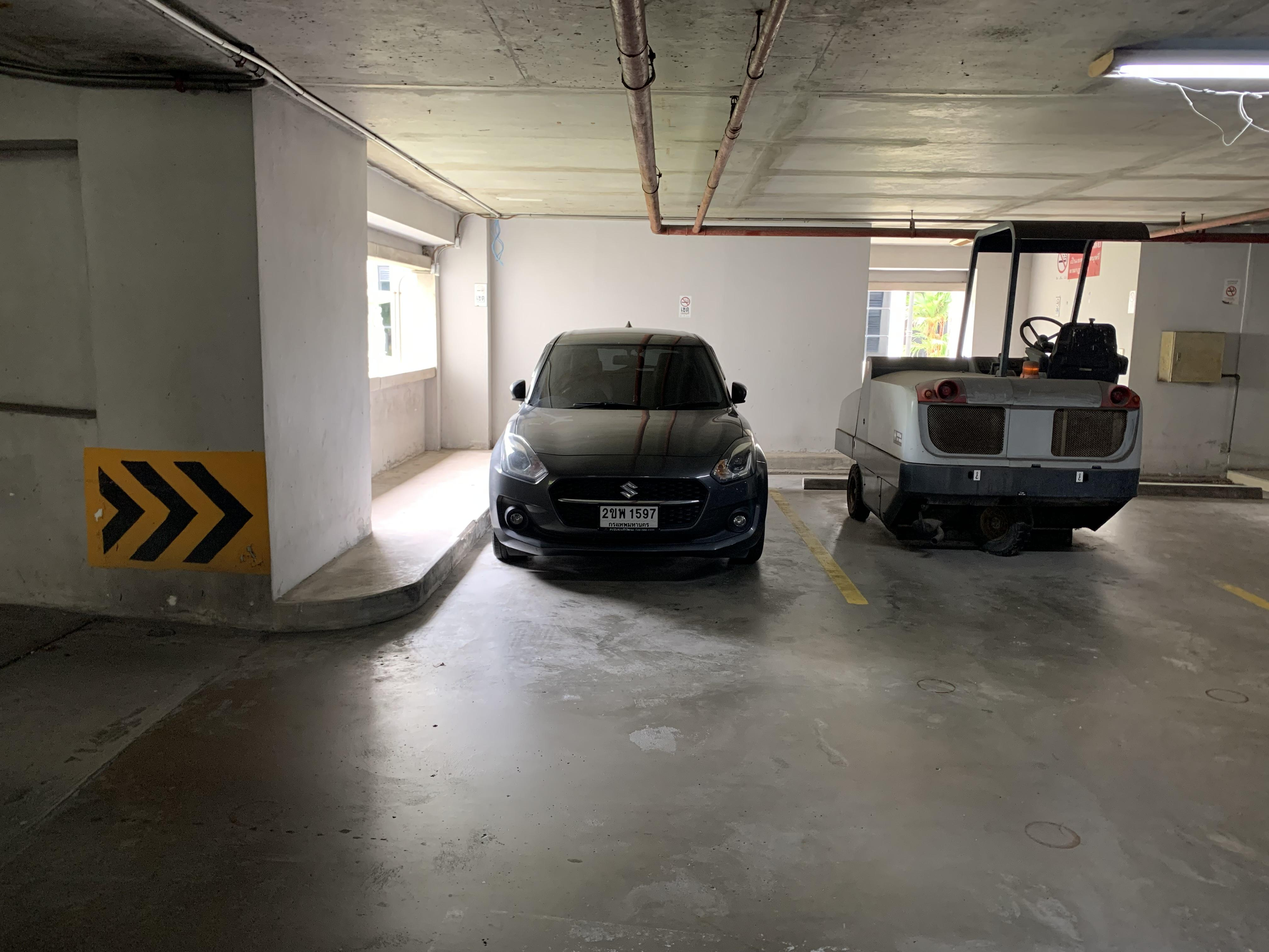license-plate: (594, 502, 663, 536)
